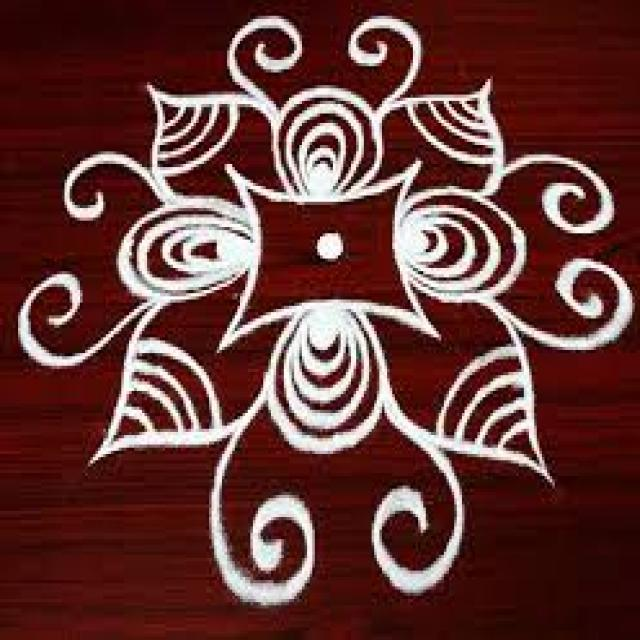rangoli: (14, 14, 635, 606)
